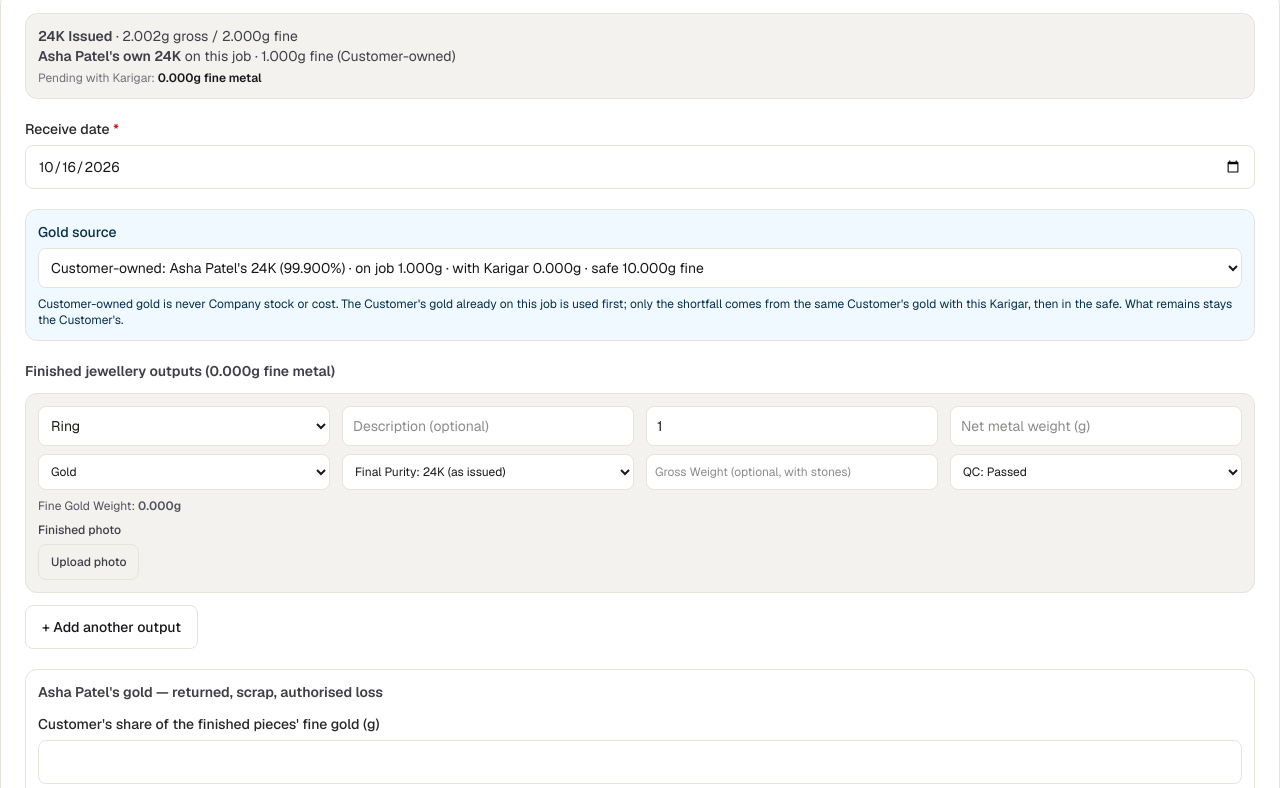
it: ReceiveFinishedForm — mixed Customer + Company gold › the Owner's preview shows the Company gold separately, with its cost carried once and the Customer's at ₹0
The width and height of the screenshot is (1280, 788).
In the number field labelled "Net metal weight": {"x": 1096, "y": 426} [950,406,1242,446], type "4.004"
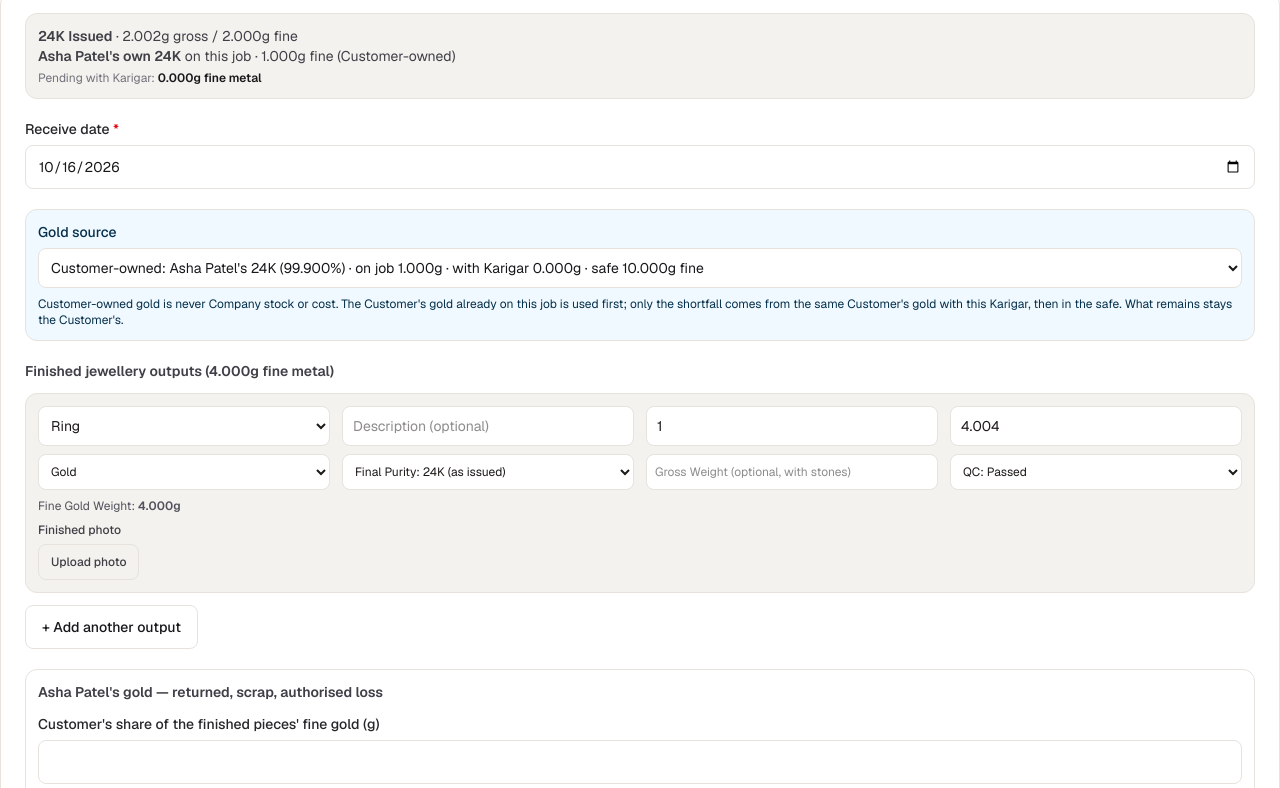
In the number field labelled "Customer's share of the finished pieces' fine gold (g)": {"x": 640, "y": 762} [38,740,1242,784], type "2.000"
(page scrolled)
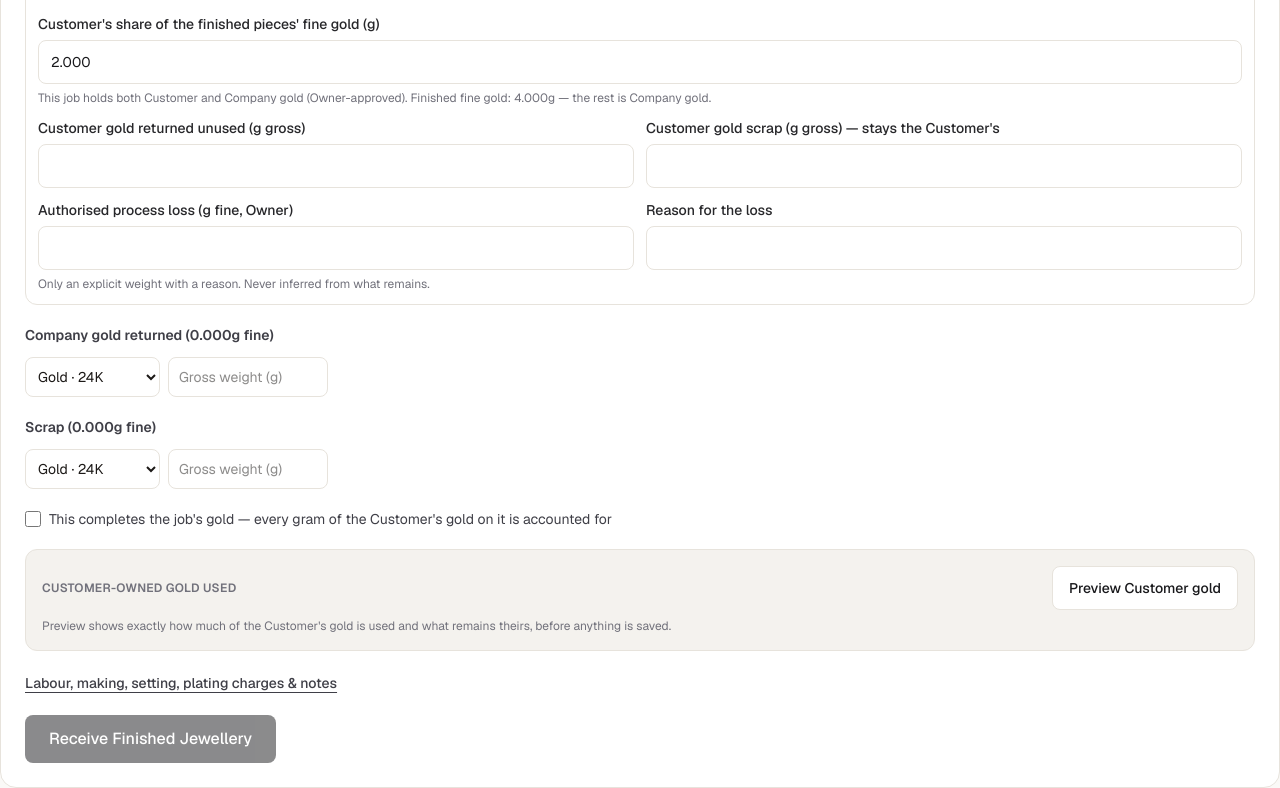
Click the button "Preview Customer gold": {"x": 1145, "y": 588} [1052,566,1238,610]
(page scrolled)
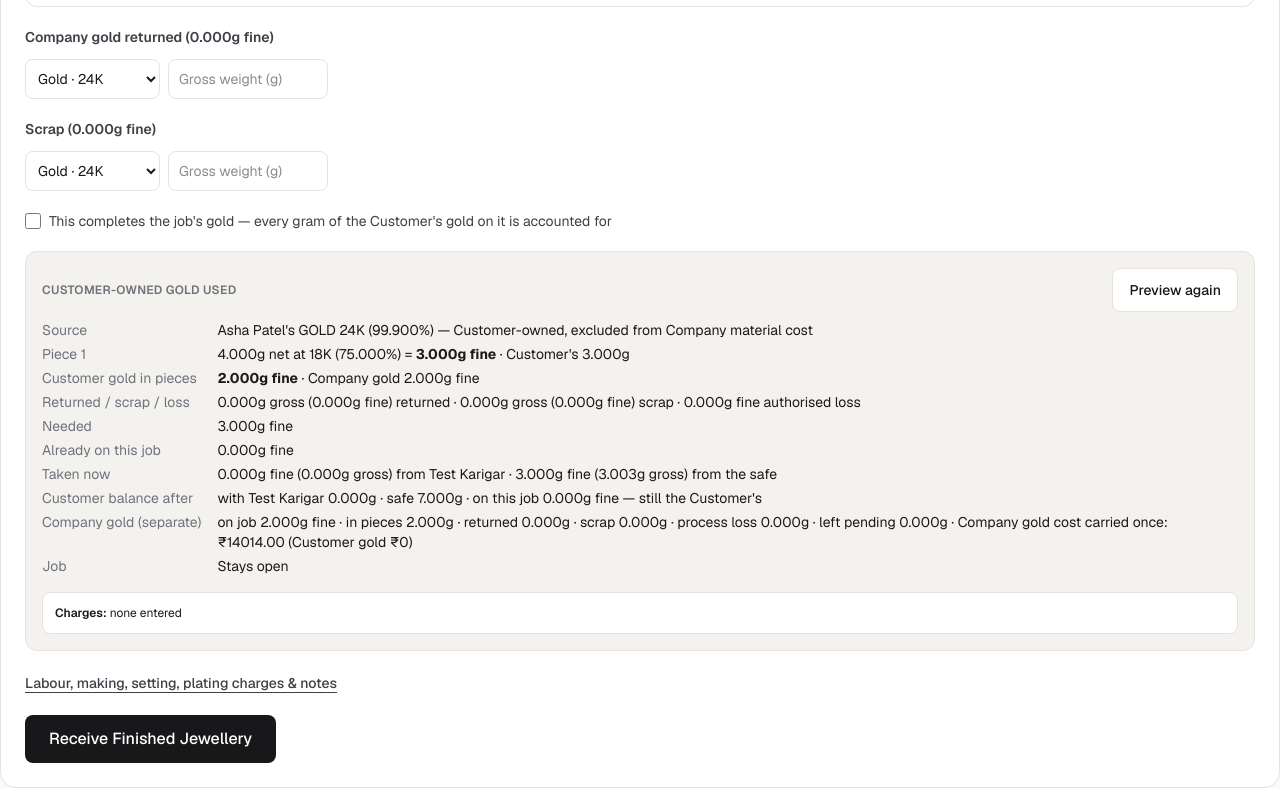
Result: the text with test id "mixed-company-side" shows "in pieces 2.000g" at [217,513,1168,551]
Result: the text with test id "mixed-company-side" shows "Company gold cost carried once: ₹14014.00 (Customer gold ₹0)" at [217,513,1168,551]
